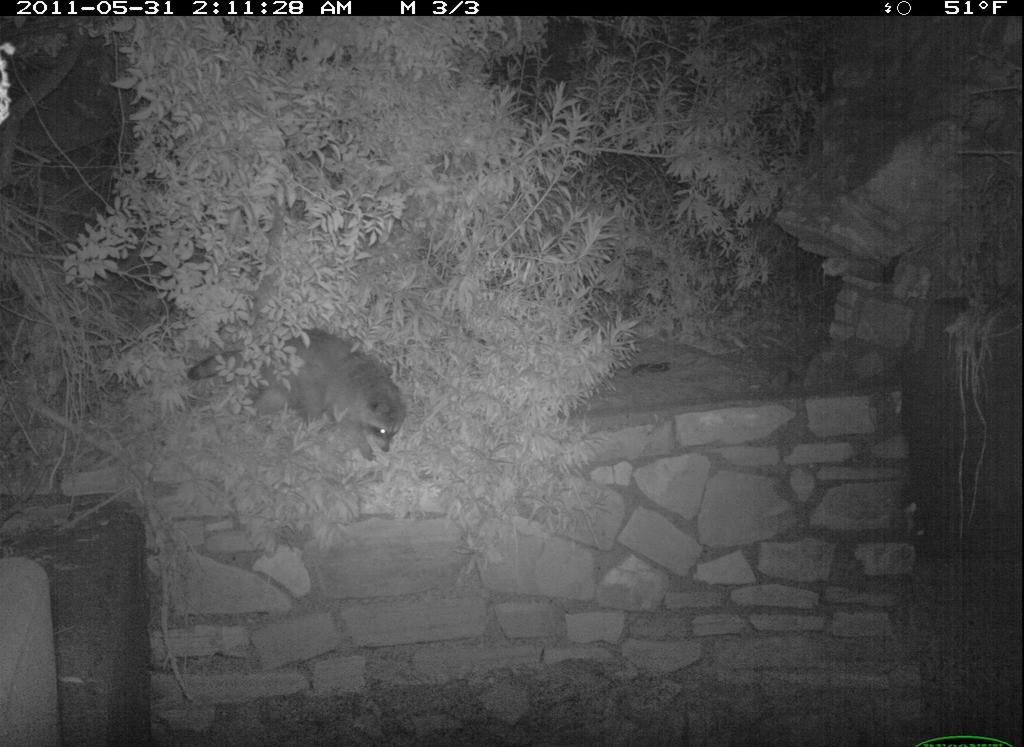raccoon: (177, 315, 418, 464)
